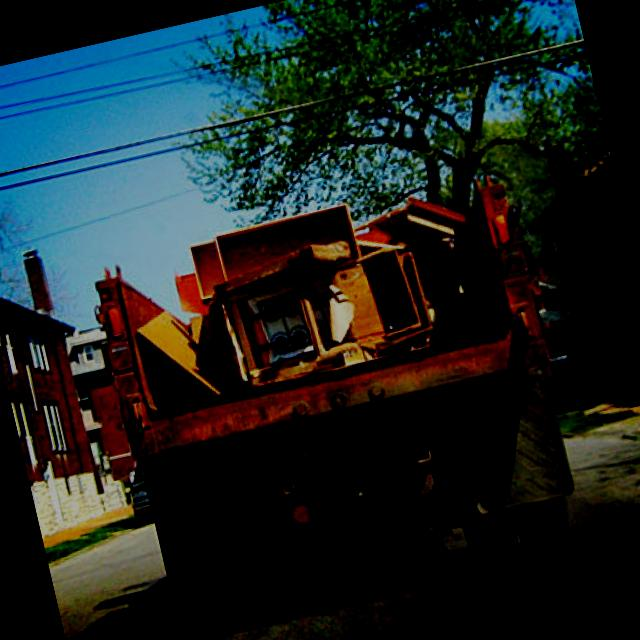Vehicle: (83, 161, 611, 640), (121, 464, 152, 517)
